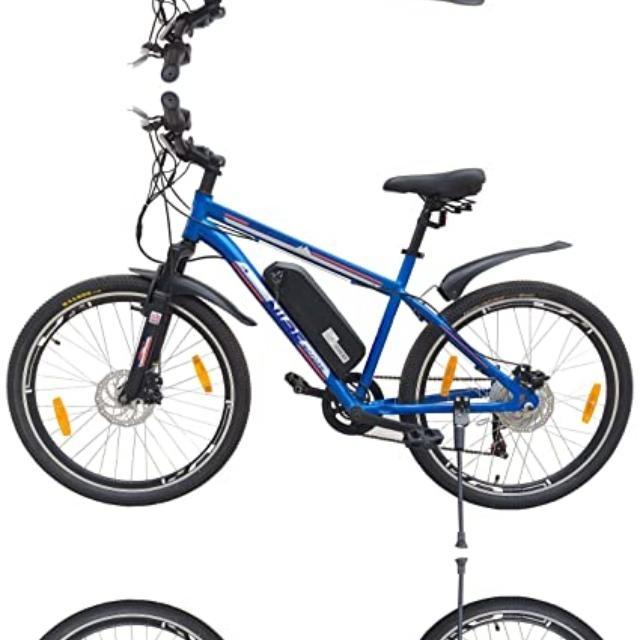obstacle: (7, 88, 635, 544), (7, 0, 635, 84), (7, 561, 635, 640)
